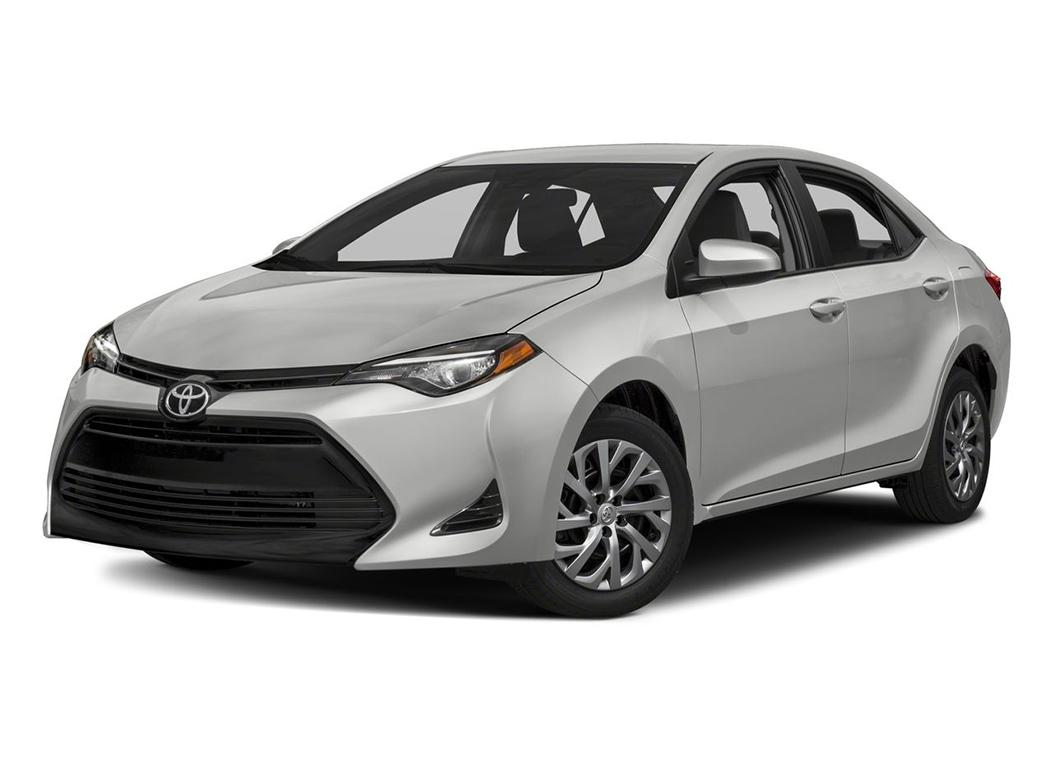car: (33, 134, 1021, 631)
